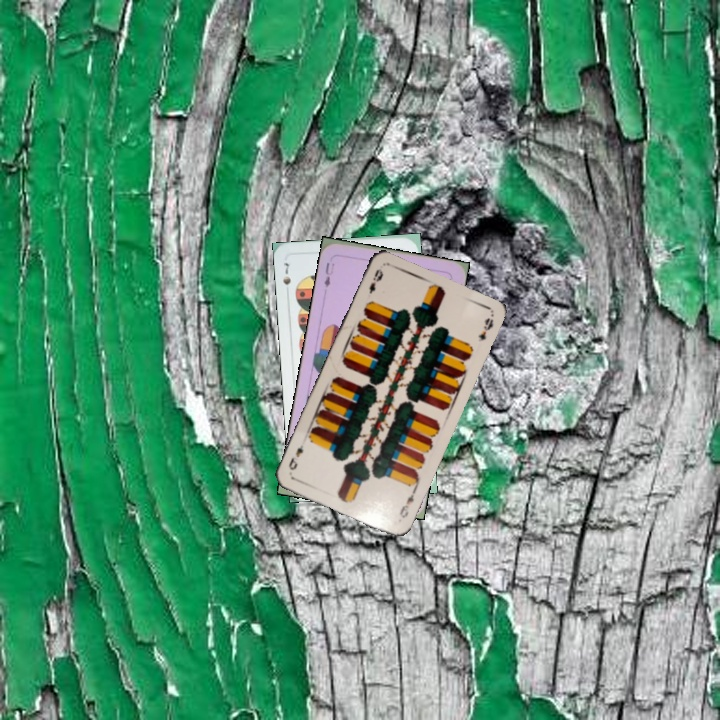E9: (395, 485, 418, 521), (365, 264, 386, 296)
EU: (320, 258, 337, 290)
S7: (279, 259, 293, 287)
